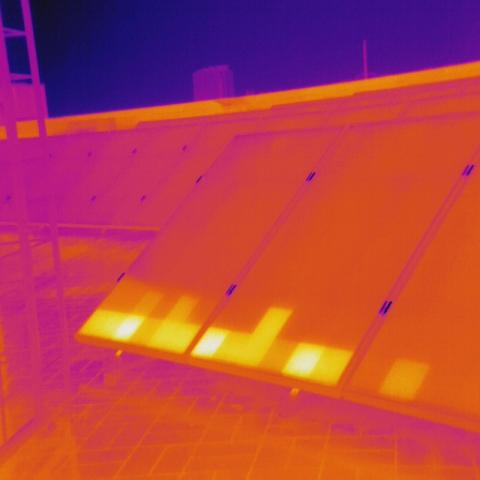fault: (380, 358, 432, 407), (226, 328, 266, 370), (190, 326, 232, 360), (285, 341, 323, 377), (253, 306, 291, 334), (161, 322, 195, 351), (84, 306, 115, 335), (115, 313, 146, 340)
